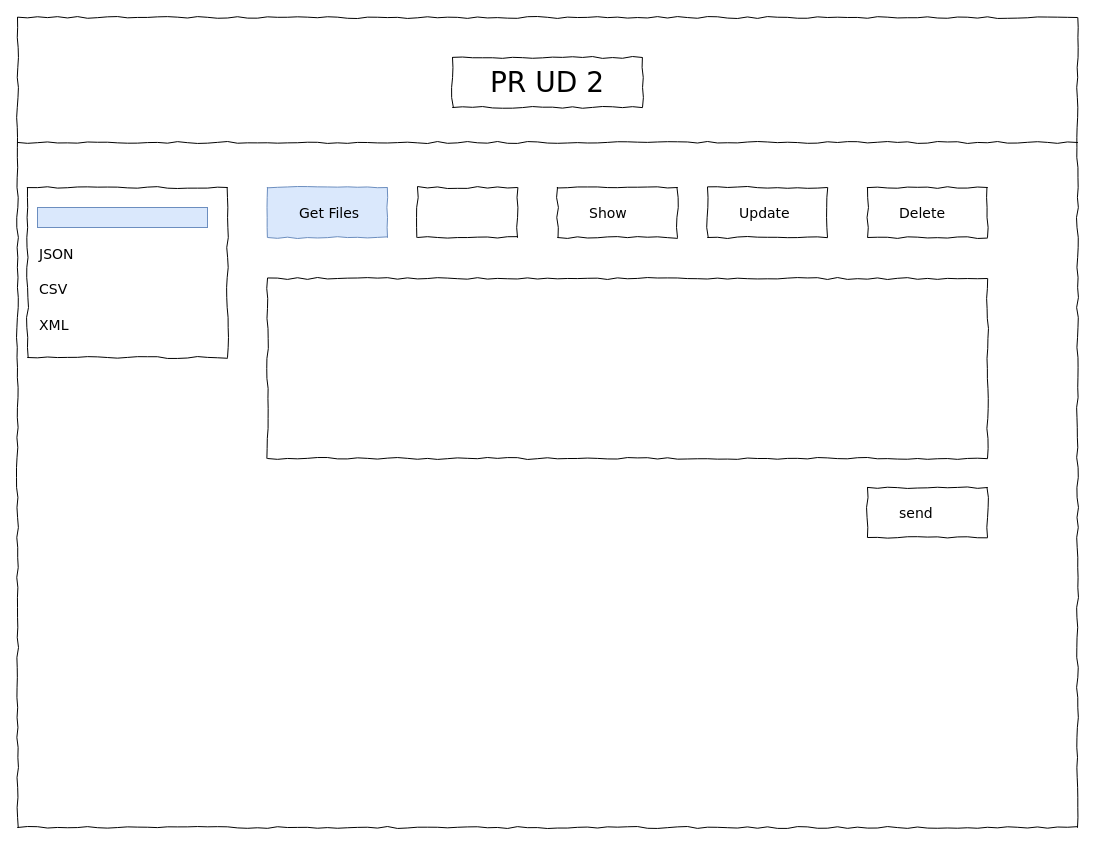
Image size: 1095x845. Some labels were removed from this diagram. Here are the shapes that lost their labels. From the top down, the centre of each, then its label:
point 122,217: Class Storage
point 467,212: Store
point 627,368: { "mensaje": "Listado de ficheros", "contenido": [ ".gitignore" ] }
